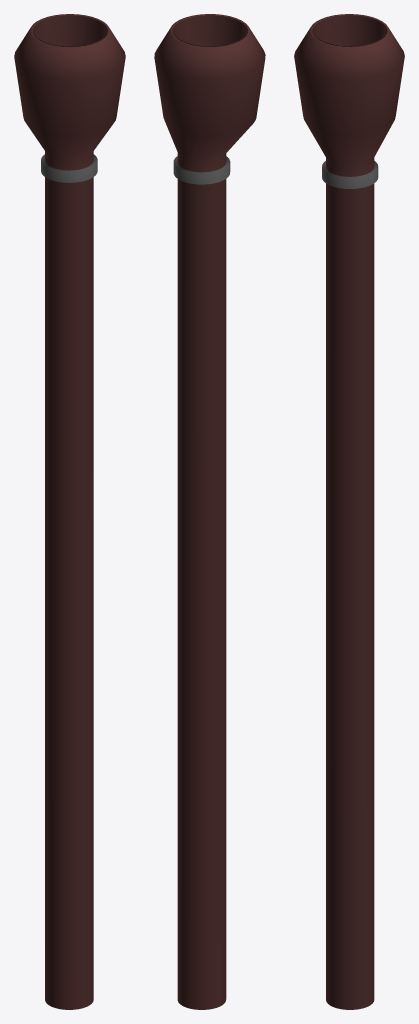
File: torch.glb
3 views of the same model, side by side, from view 1: azimuth 90°, elevation 25°; view 2: azimuth 150°, elevation 25°; view 3: azimuth 270°, elevation 25° (orthographic).
Visible parts, largest first — view 1: Cylinder.012; view 2: Cylinder.012; view 3: Cylinder.012.
Part boxes in pixels (bbox=[...]): Cylinder.012: bbox=[14, 14, 125, 1009]; Cylinder.012: bbox=[154, 14, 265, 1009]; Cylinder.012: bbox=[294, 14, 404, 1009].
Bounding box in the file's own units: 0.2526 × 2.43 × 0.2526.
